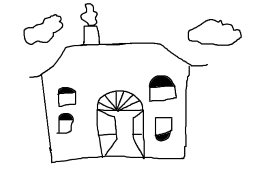clouds: (184, 13, 245, 53), (15, 9, 69, 48)
door: (92, 88, 149, 160)
open_window: (147, 71, 182, 108), (55, 82, 86, 113), (52, 111, 82, 142), (152, 113, 179, 147)
single_line_roof: (27, 39, 209, 84)
smoking_chimney: (73, 1, 108, 55)
wall: (38, 76, 198, 168)
